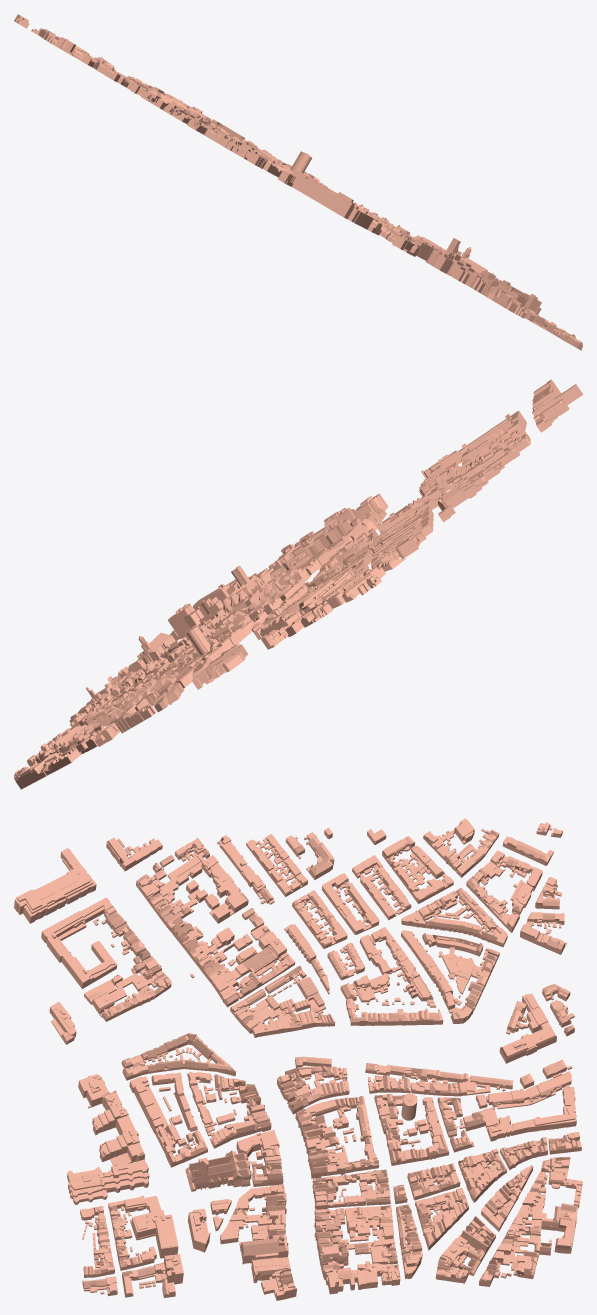
3 views of the same model, one above another, from view 1: azimuth 30°, elevation 25°; view 2: azimuth 150°, elevation 25°; view 3: azimuth 270°, elevation 25° (orthographic). The views are drawn at different scales.
Size of the model in its own units: 534 by 395 by 674.
